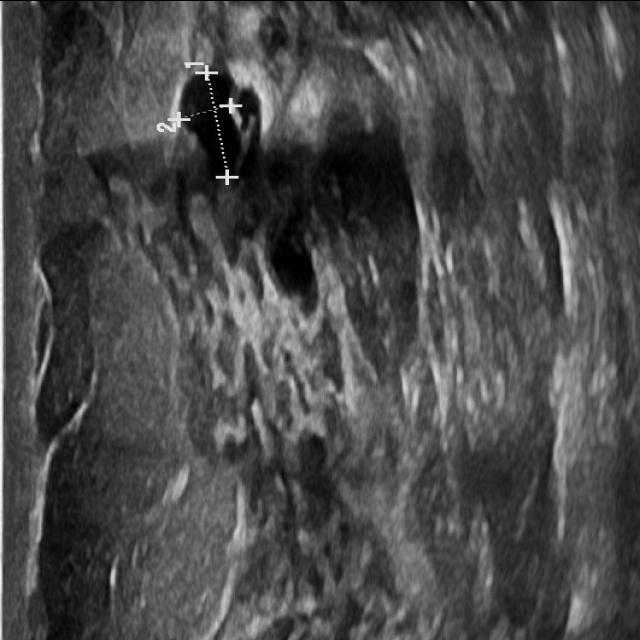Benign: (163, 62, 257, 162)
